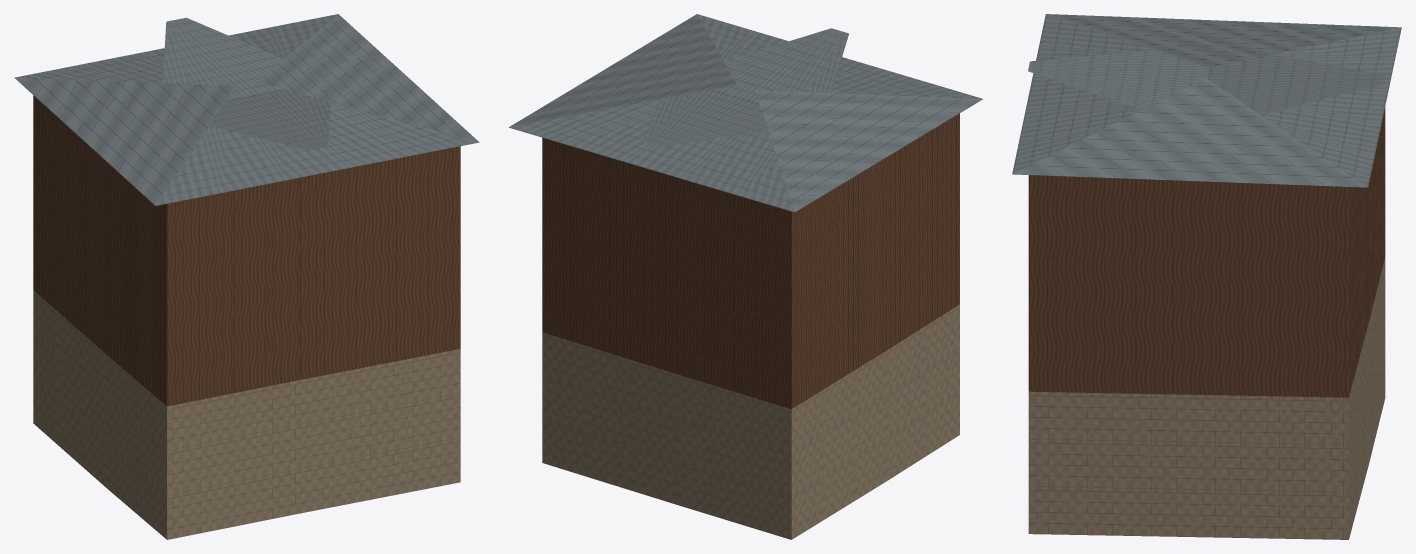
File: bld_c10_26_404.gltf
The picture shows the model from 3 angles, left to right: view 1: azimuth 30°, elevation 25°; view 2: azimuth 150°, elevation 25°; view 3: azimuth 270°, elevation 25°; orthographic projection. The views are drawn at different scales.
Visible parts, largest first — view 1: bld_c10_26_404; view 2: bld_c10_26_404; view 3: bld_c10_26_404.
Boxes of the visible parts, left/top/right/bottom form: bld_c10_26_404: left=14, top=14, right=479, bottom=539; bld_c10_26_404: left=509, top=14, right=982, bottom=539; bld_c10_26_404: left=1012, top=14, right=1401, bottom=539.
Size of the model in its own units: 13.36 by 14.1 by 12.66.
3 materials, 3 textured.
